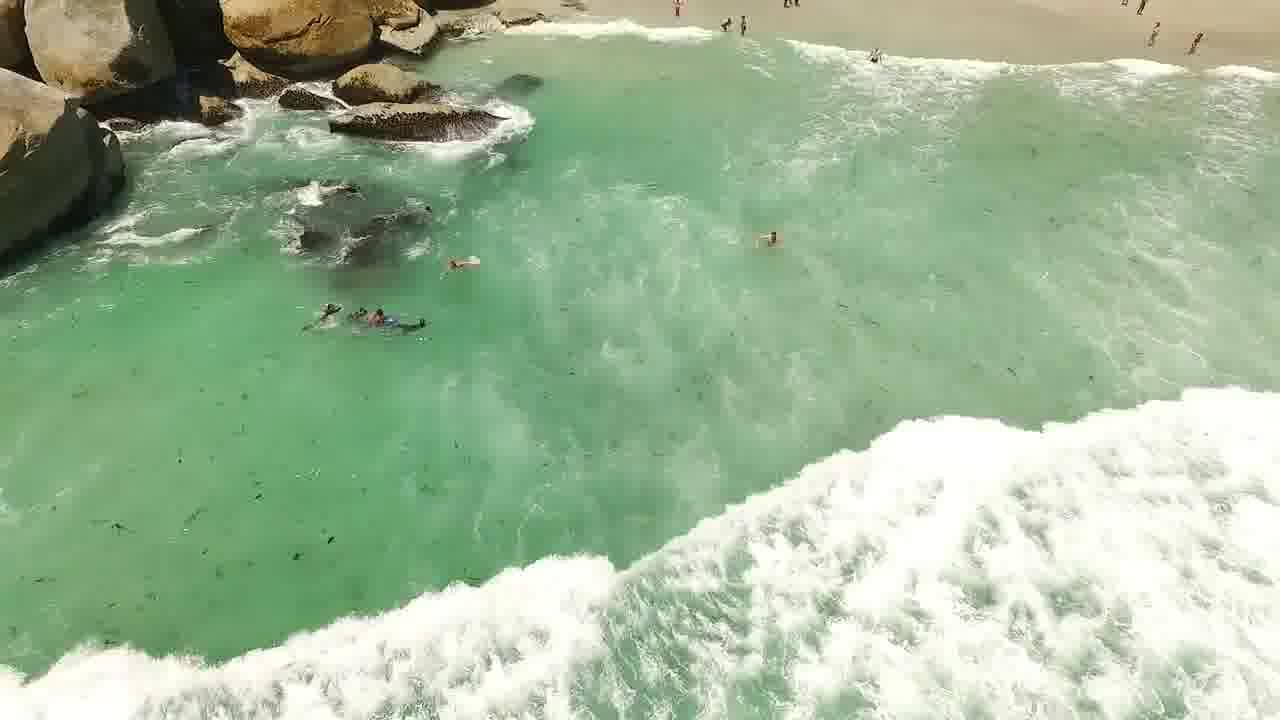human: (439, 253, 476, 285), (408, 304, 443, 337), (751, 219, 787, 251), (318, 295, 346, 330), (365, 297, 393, 331)
